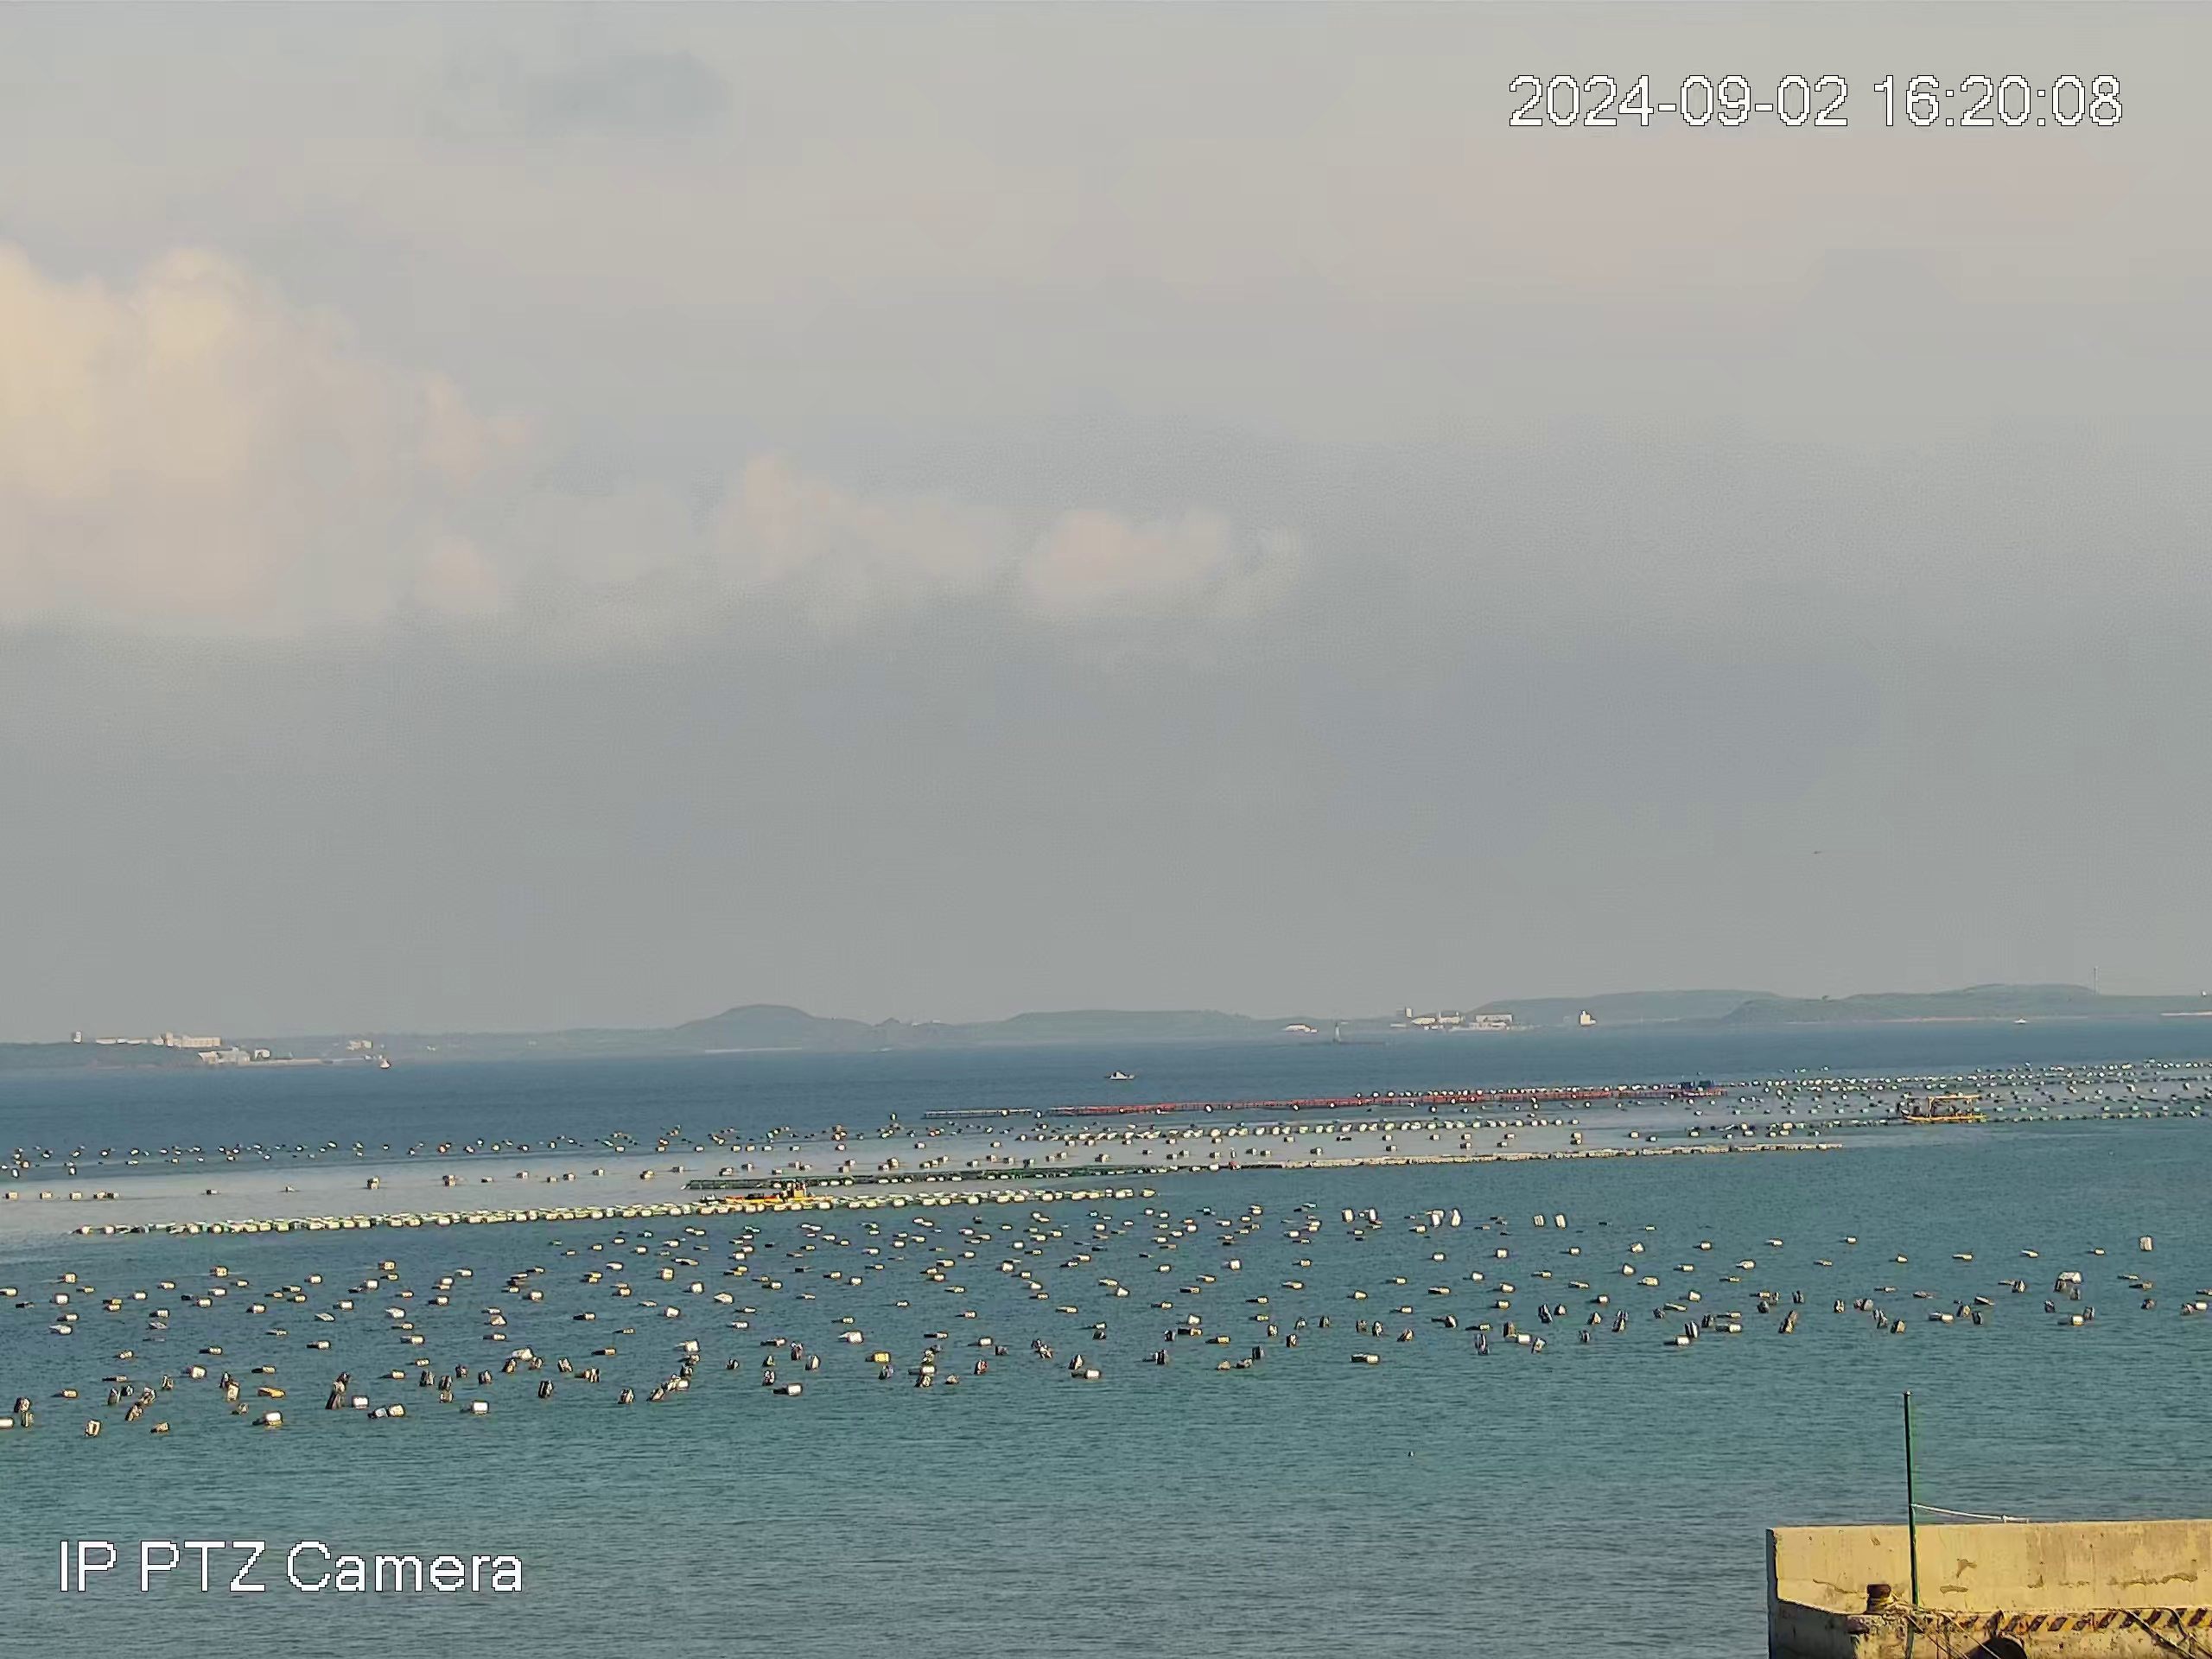boat: (1902, 1093, 1986, 1126), (723, 1180, 815, 1206), (1108, 1070, 1134, 1082)
